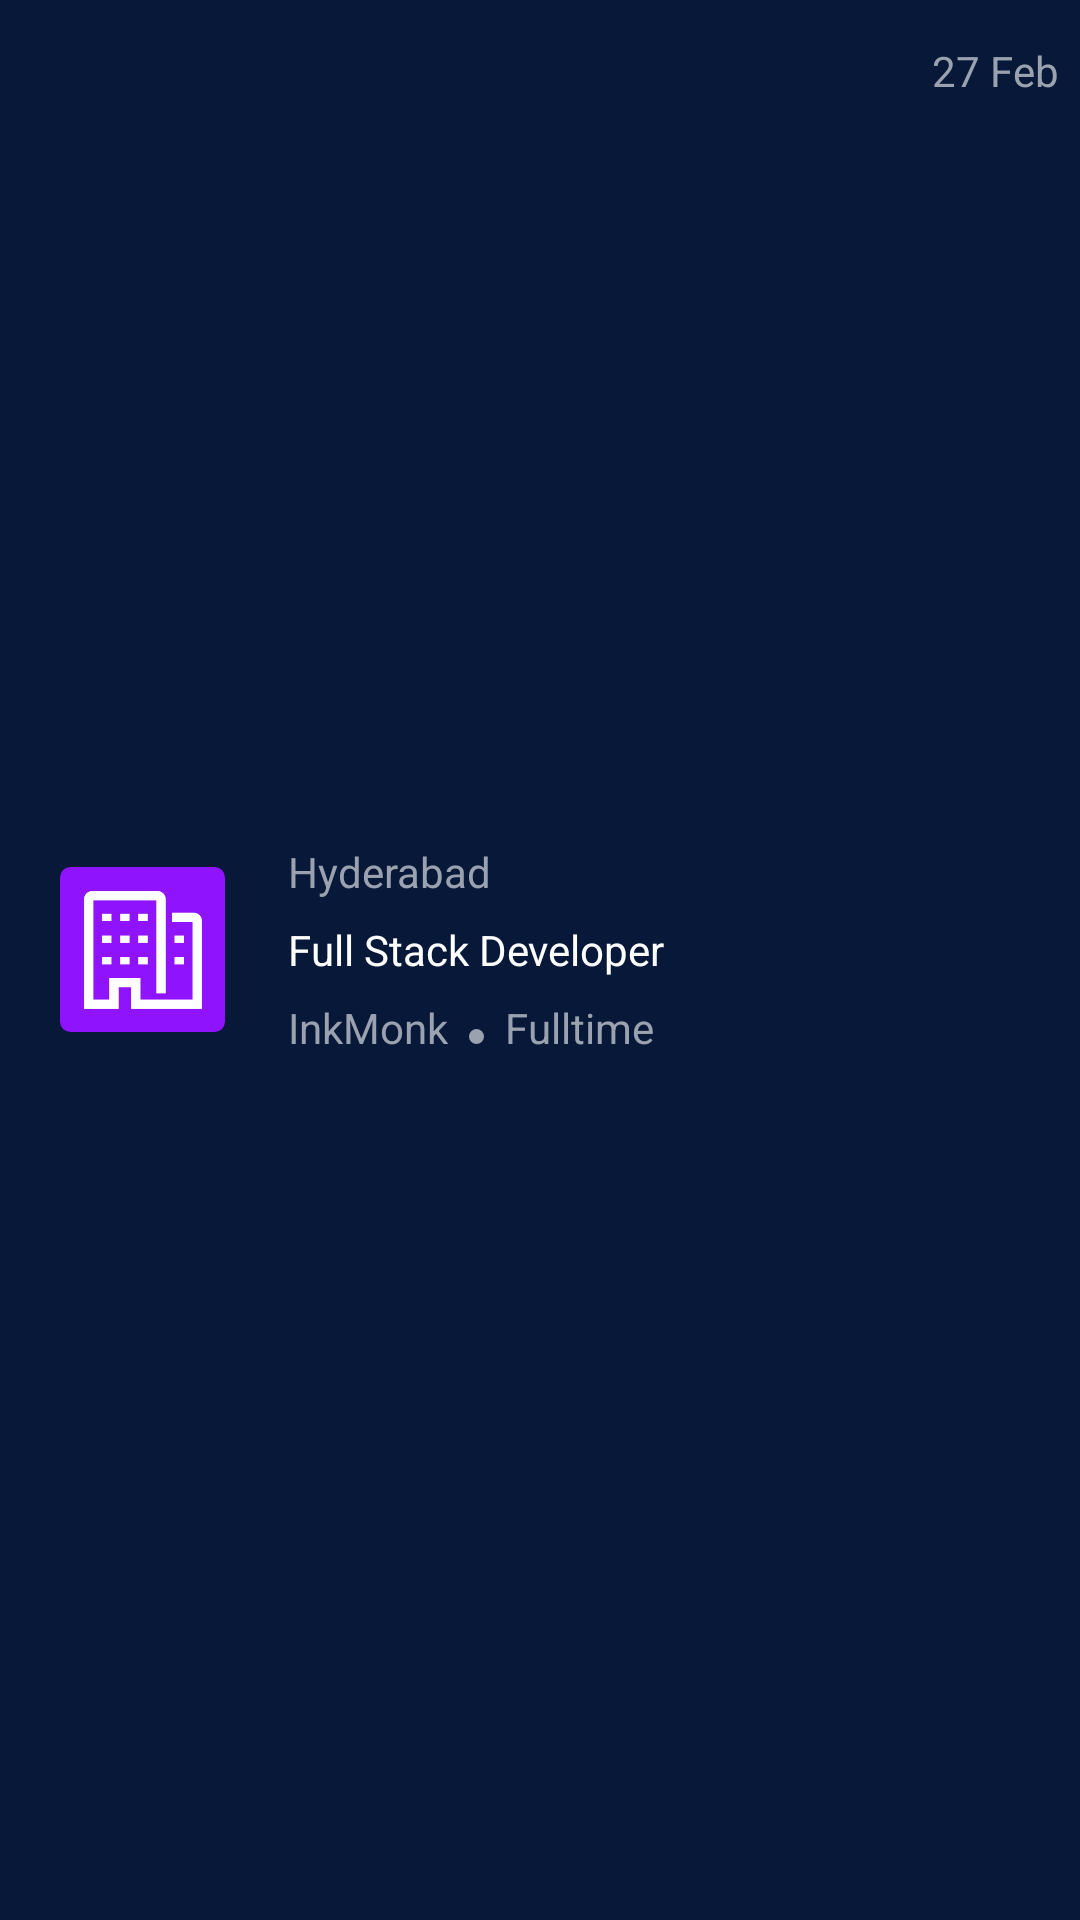

Screen size 1080w x 1920h. Icon name, then its box in pixels as (x1, y1, x2, y2):
organization: (60, 867, 225, 1032)
